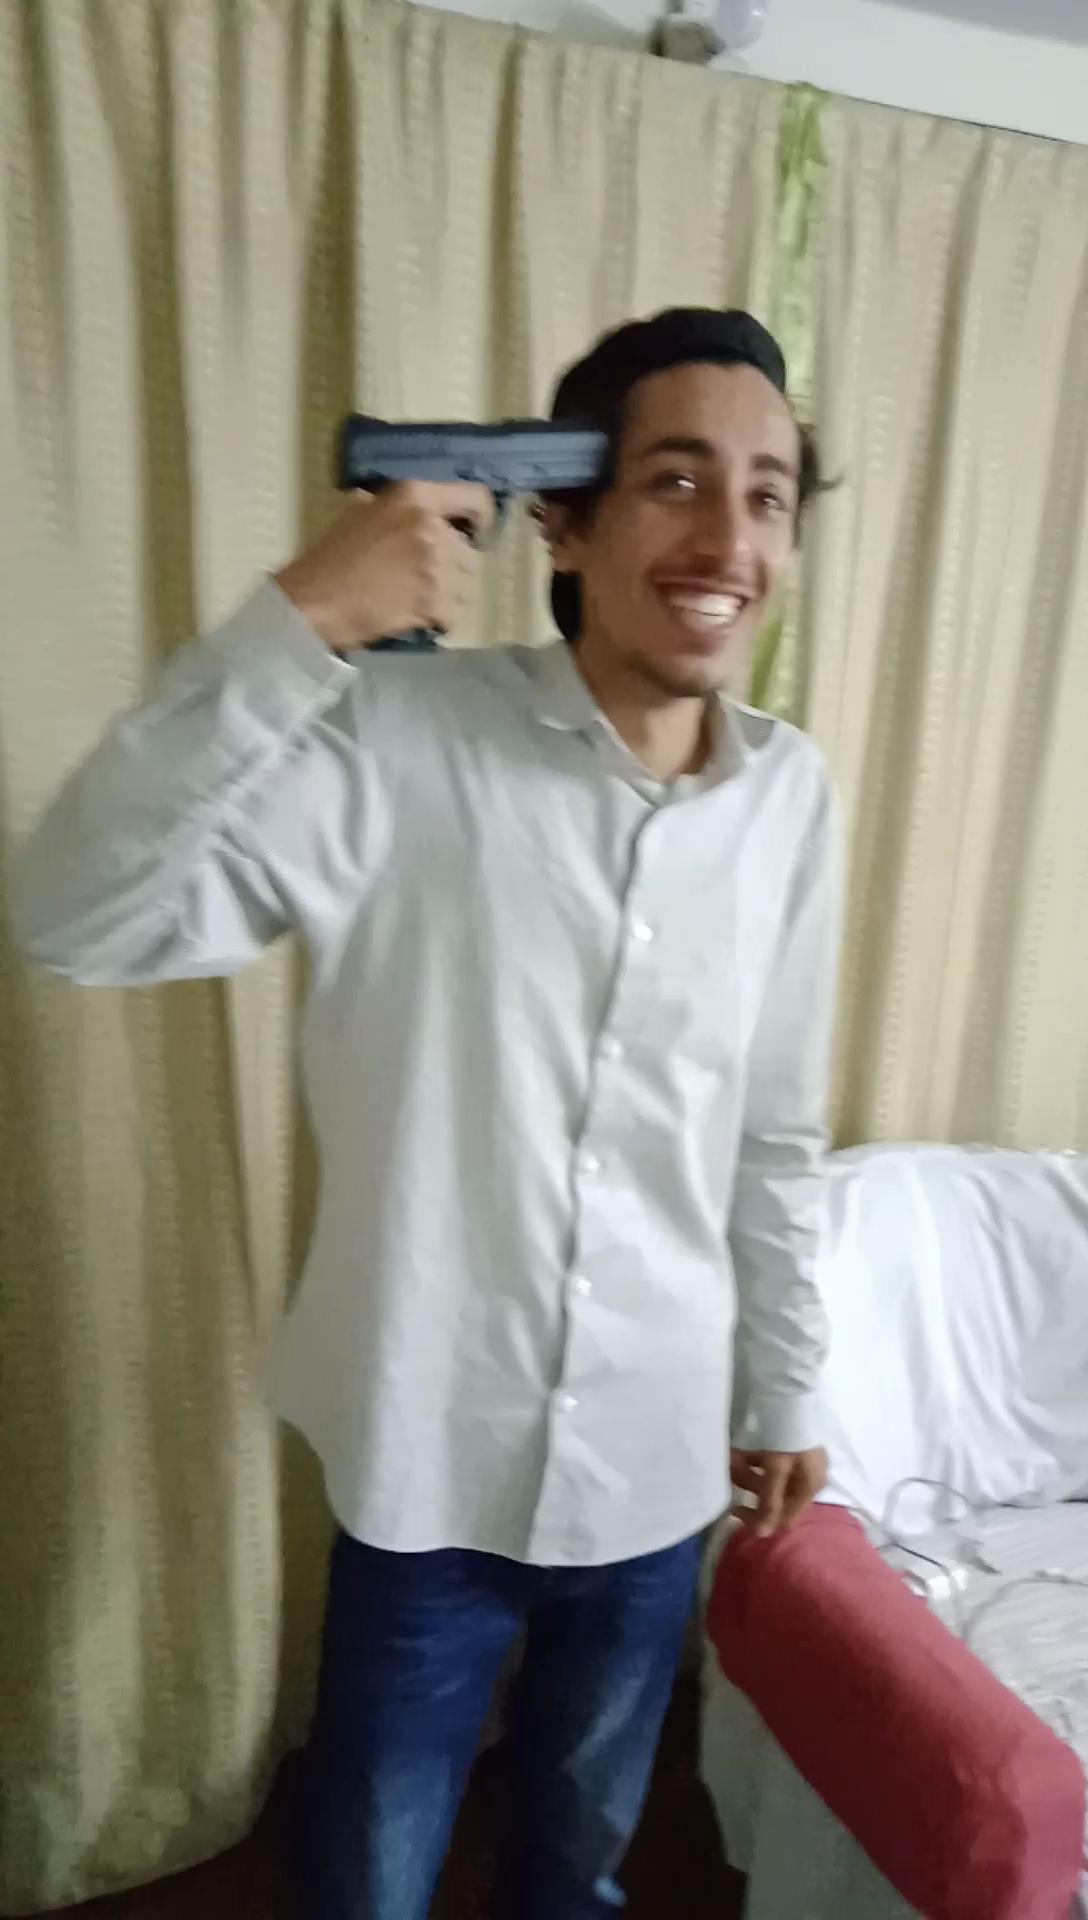criminal: (0, 286, 845, 1920)
weapon: (324, 396, 630, 665)
